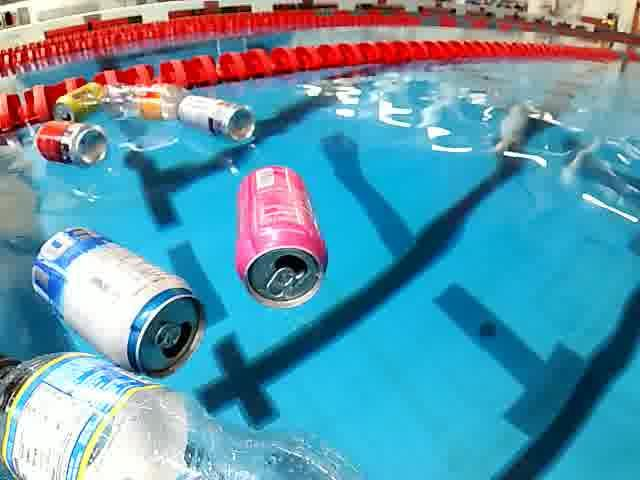Bottle: (1, 346, 376, 480), (99, 74, 199, 125)
Can: (27, 222, 208, 384), (232, 162, 330, 314), (24, 117, 112, 171), (175, 90, 258, 146), (49, 82, 111, 125)
